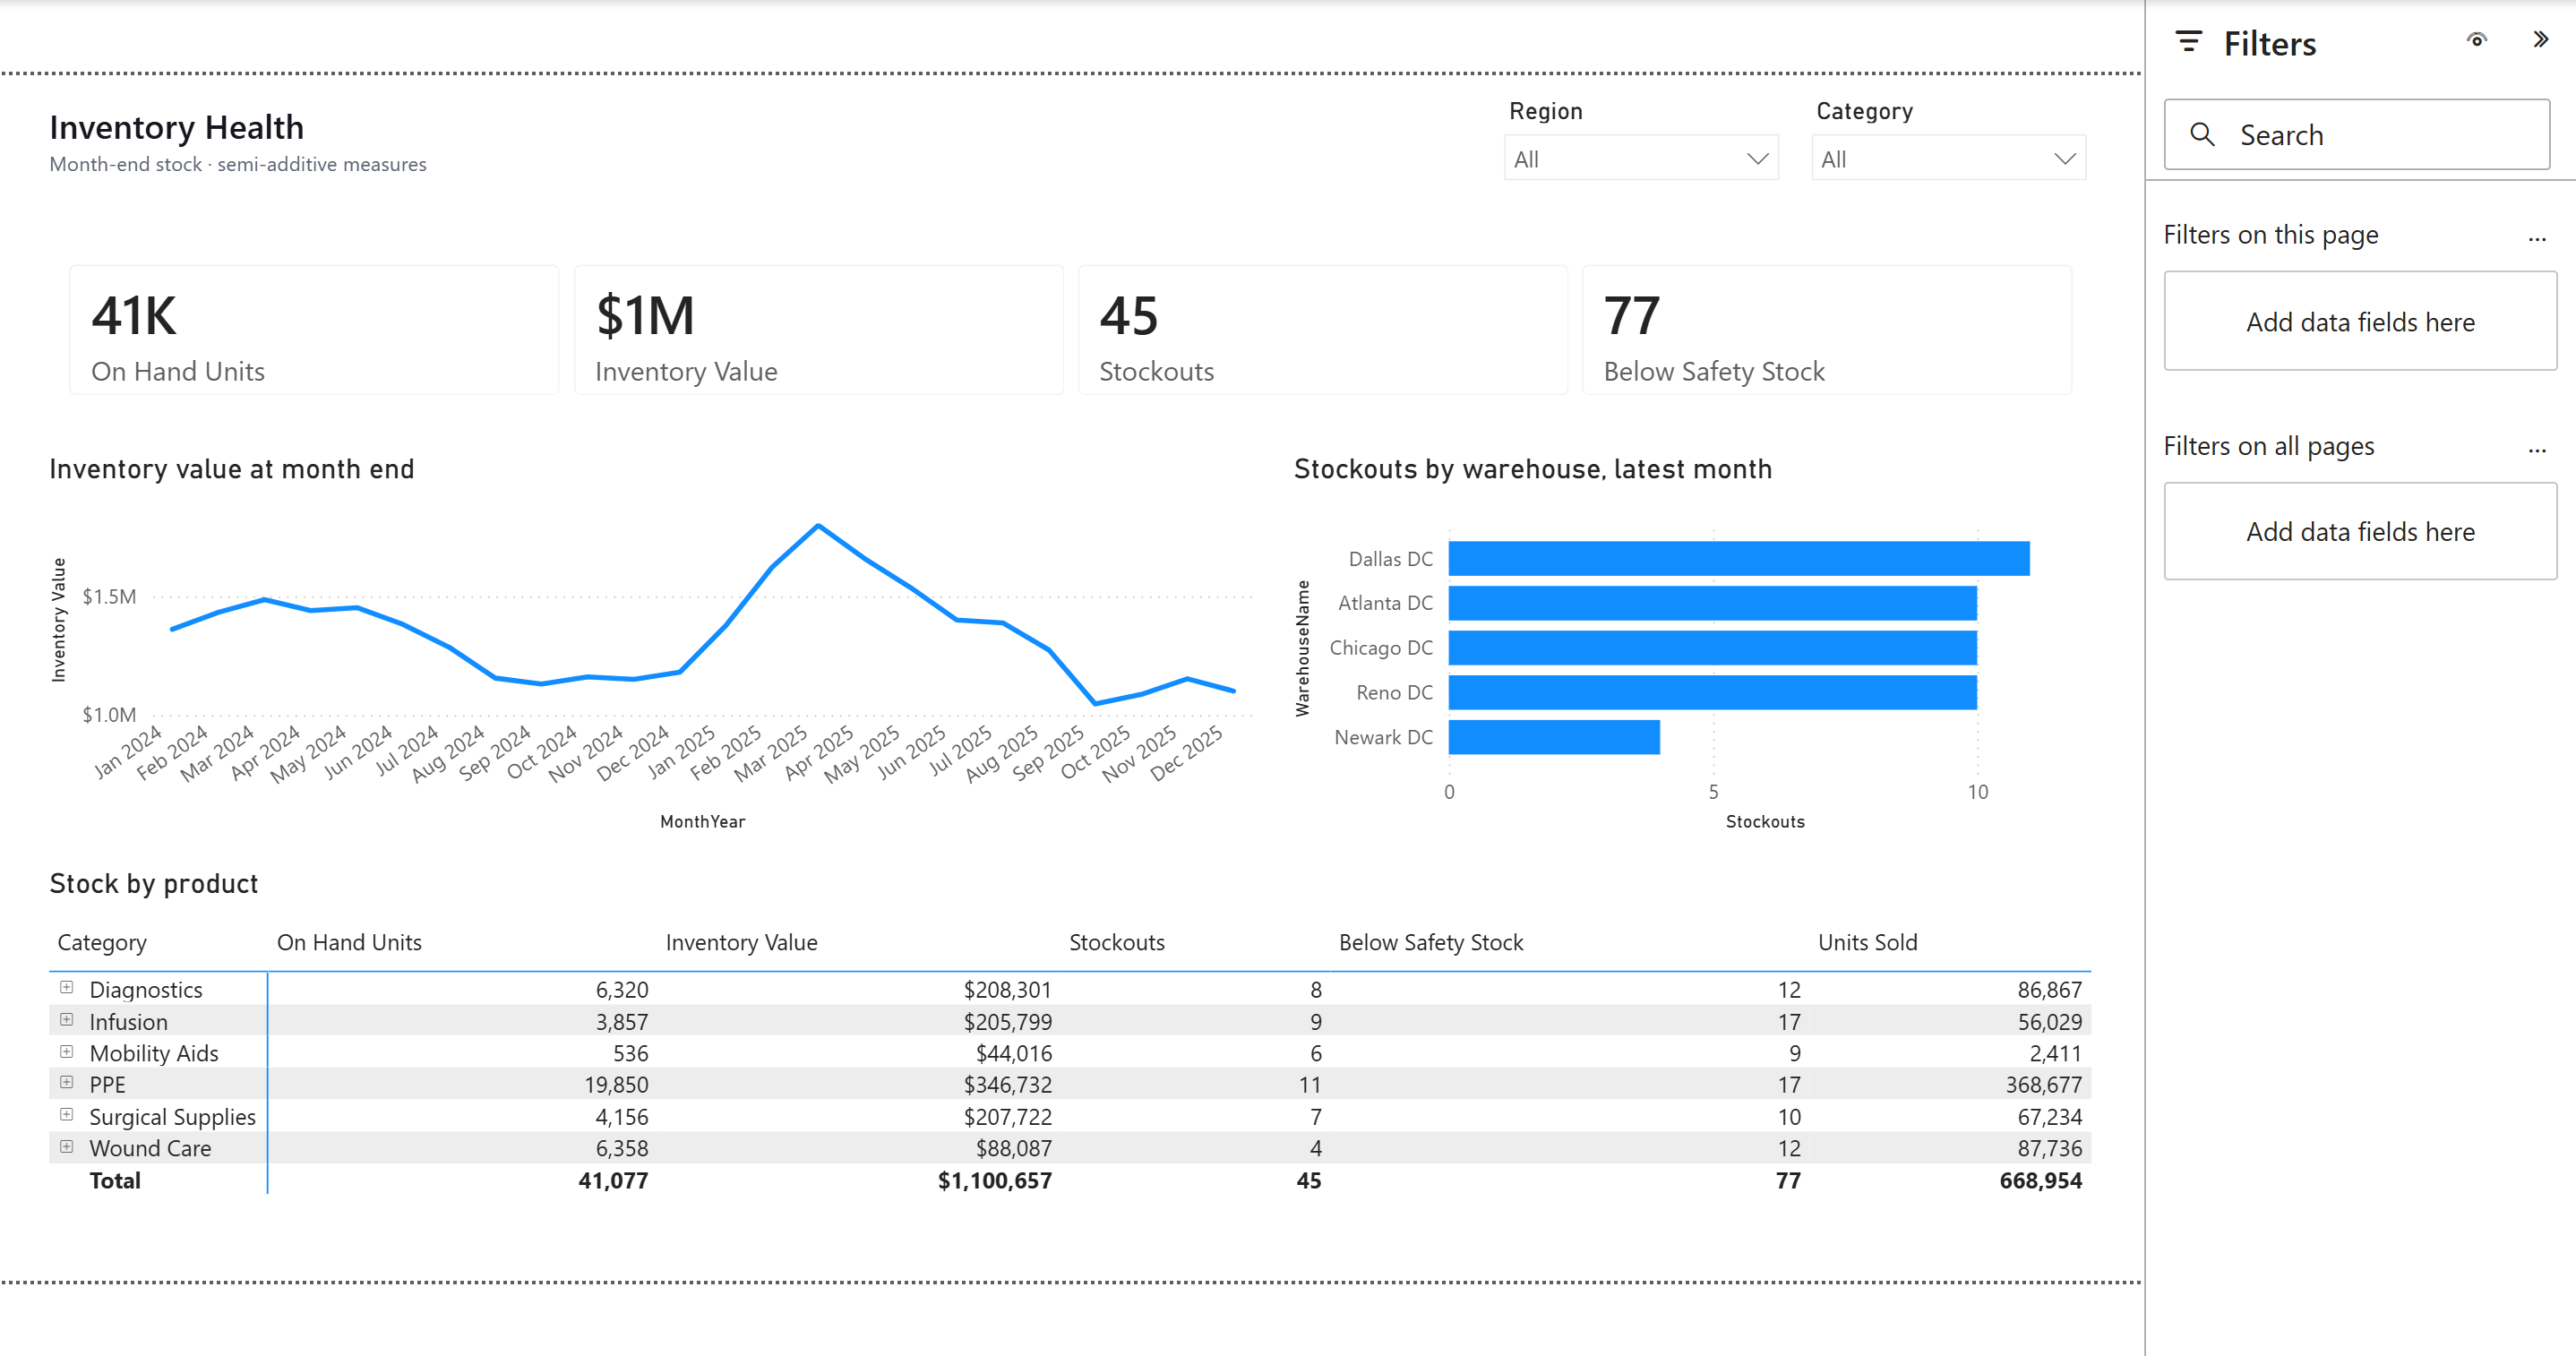

The dashboard page shown, as its layout file describes it:
{"tool":"powerbi","page":{"name":"Inventory Health","canvas":[1280,720],"ordinal":2},"visuals":[{"type":"textbox","box":[24,12,640,64],"z":0},{"type":"slicer","fields":{"Values":["Dim_Warehouse.Region"]},"box":[888,8,184,80],"z":1000},{"type":"slicer","fields":{"Values":["Dim_Product.Category"]},"box":[1072,8,184,80],"z":2000},{"type":"cardVisual","fields":{"Data":["_Measures.On Hand Units","_Measures.Inventory Value","_Measures.Stockouts","_Measures.Below Safety Stock"]},"box":[24,96,1232,112],"z":3000},{"type":"lineChart","title":"Inventory value at month end","fields":{"Category":["Dim_Date.MonthYear"],"Y":["_Measures.Inventory Value"]},"box":[24,224,728,232],"z":4000},{"type":"clusteredBarChart","title":"Stockouts by warehouse, latest month","fields":{"Category":["Dim_Warehouse.WarehouseName"],"Y":["_Measures.Stockouts"]},"box":[768,224,488,232],"z":5000},{"type":"pivotTable","title":"Stock by product","fields":{"Rows":["Dim_Product.Category","Dim_Product.ProductName"],"Values":["_Measures.On Hand Units","_Measures.Inventory Value","_Measures.Stockouts","_Measures.Below Safety Stock","_Measures.Units Sold"]},"box":[24,472,1232,232],"z":6000}]}

Visuals, with their boxes on the page's 1280x720 design canvas (x1, y1, x2, y2). These are canvas units, not pixel positions in the 2576x1356 screenshot, which may show the page scaled, cropped or inside an application window:
textbox: locate(24, 12, 664, 76)
slicer - Dim_Warehouse.Region: locate(888, 8, 1072, 88)
slicer - Dim_Product.Category: locate(1072, 8, 1256, 88)
cardVisual - _Measures.On Hand Units x _Measures.Inventory Value: locate(24, 96, 1256, 208)
"Inventory value at month end" lineChart: locate(24, 224, 752, 456)
"Stockouts by warehouse, latest month" clusteredBarChart: locate(768, 224, 1256, 456)
"Stock by product" pivotTable: locate(24, 472, 1256, 704)
